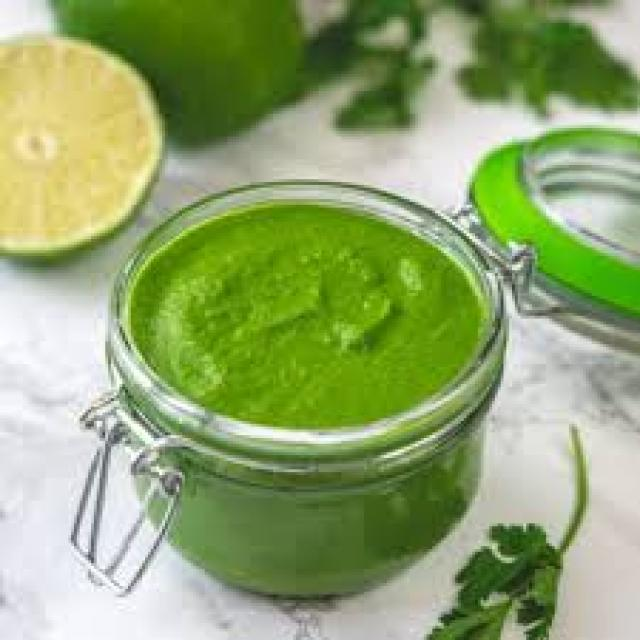GREEN CHUTNEY: (128, 205, 486, 427)
